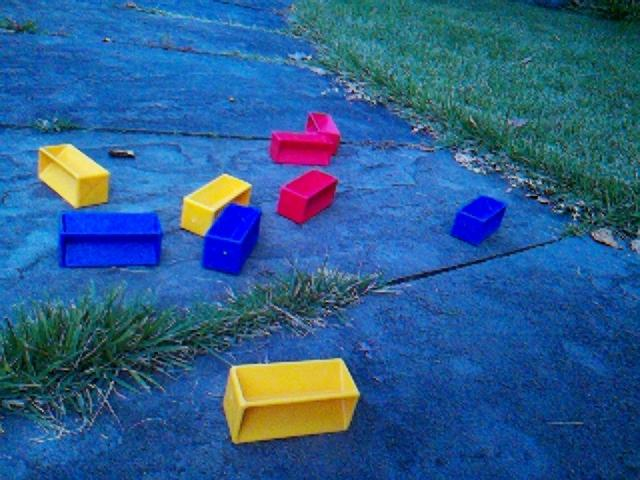blue: (58, 209, 164, 269), (201, 202, 262, 276), (450, 194, 508, 247)
red: (276, 169, 339, 225), (270, 133, 335, 167), (305, 110, 342, 155)
yellow: (222, 356, 362, 445), (37, 142, 111, 209), (180, 172, 253, 238)
